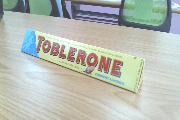Chocolate: (13, 26, 152, 96)
